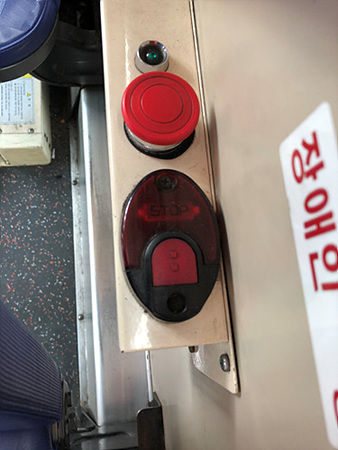bell: (120, 168, 222, 322)
